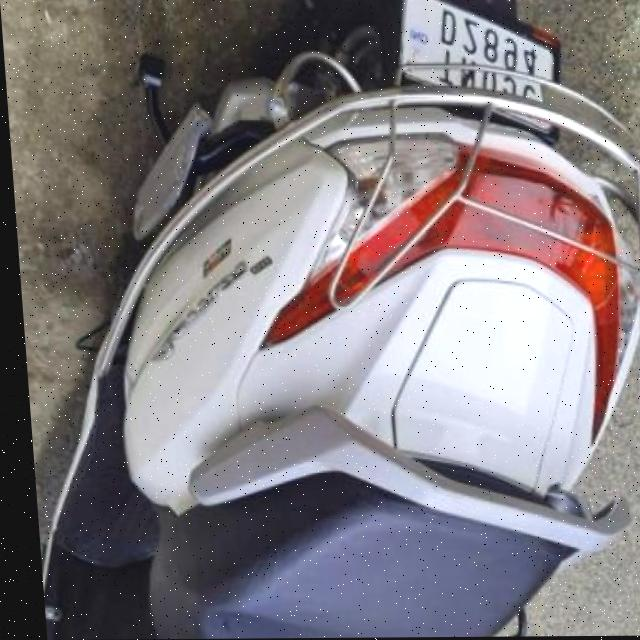plate: (389, 0, 562, 108)
